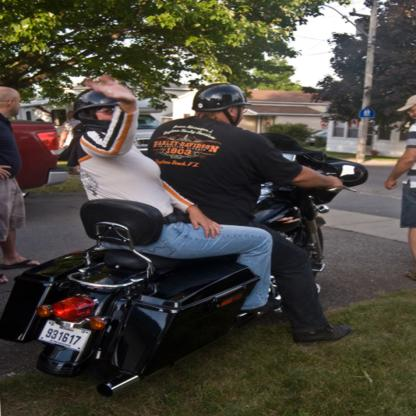Helmet: (188, 84, 254, 118), (72, 87, 119, 123)
